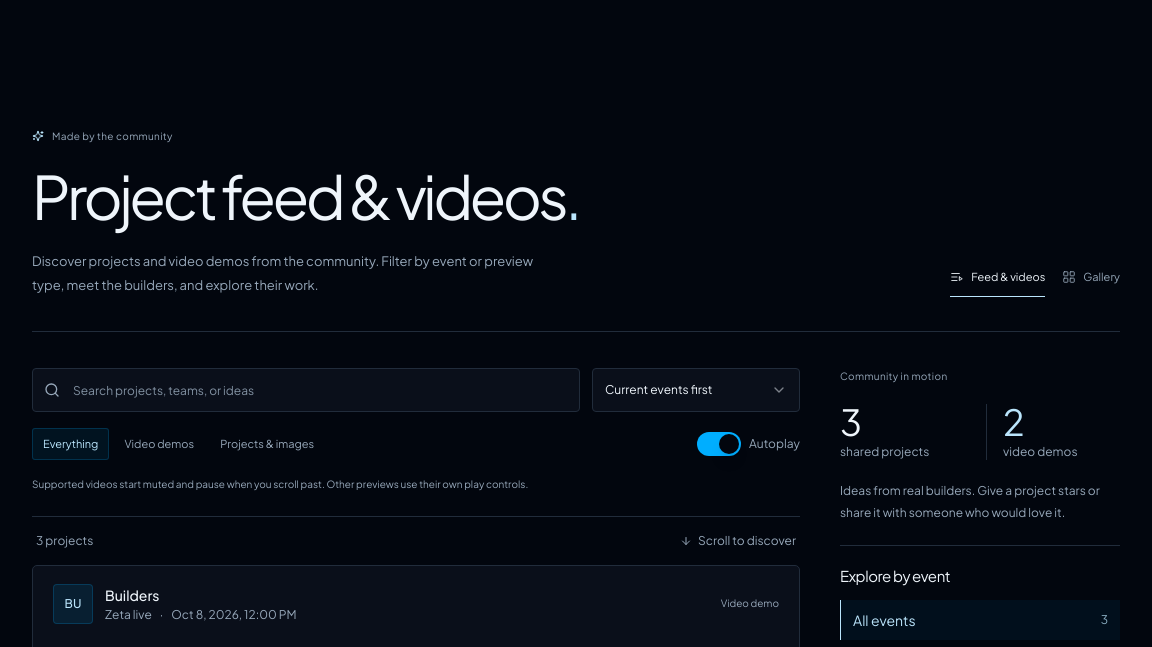
current events in the public project feed › orders the event selector and initial projects by actual event dates, with newest sorting still available
Note: Exercise the actual dropdown so a new default cannot make the old sort unreachable.
Step 1. Press ArrowDown in the dropdown named "Sort projects", box [592,368,800,412]
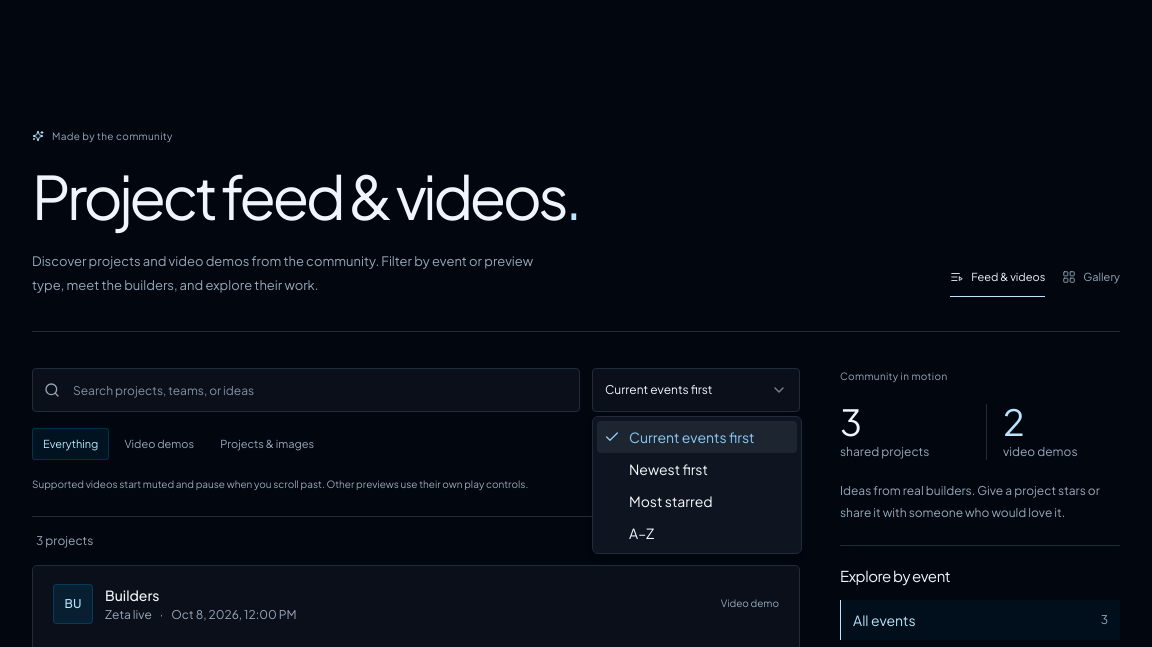
Step 2. Click the option "Newest first" → [668, 469], box [629,460,708,478]
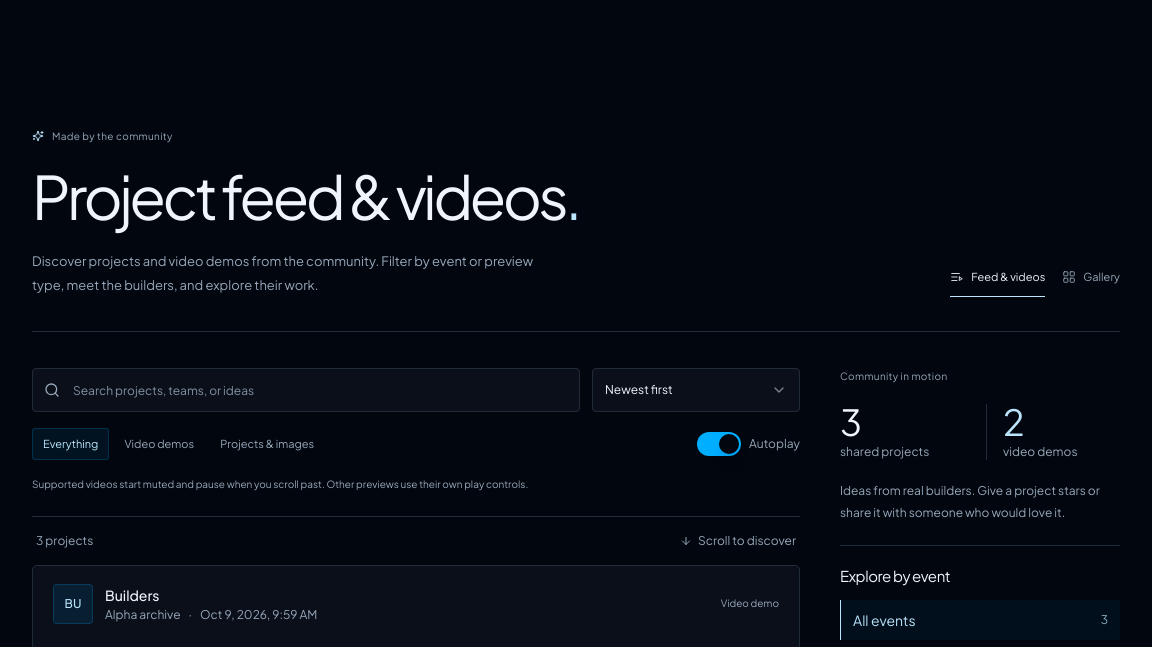
Expected: the dropdown named "Sort projects" reads "Newest first", [592,368,800,412]
